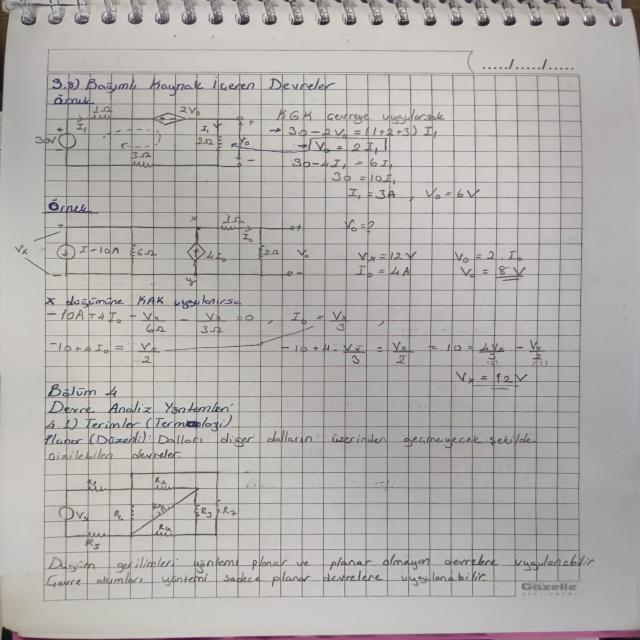image: (15, 213, 318, 289), (33, 99, 263, 177), (48, 465, 245, 552)
math: (280, 309, 557, 390), (272, 126, 488, 202), (43, 309, 259, 366), (349, 246, 533, 286)
text: (45, 552, 603, 587), (39, 399, 242, 462), (39, 430, 544, 446), (47, 72, 341, 97), (270, 104, 452, 126), (38, 292, 246, 308), (45, 380, 122, 401)
